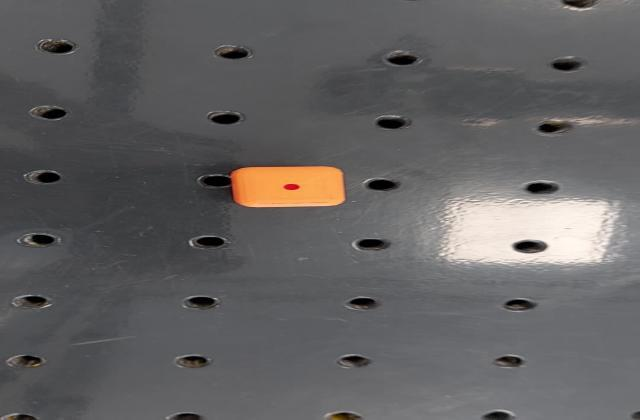cube: (225, 162, 357, 210)
